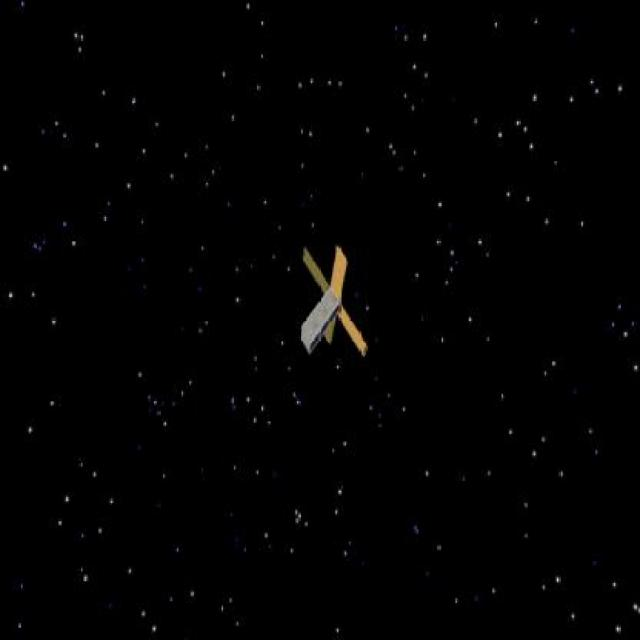medium_debris: (289, 246, 373, 354)
